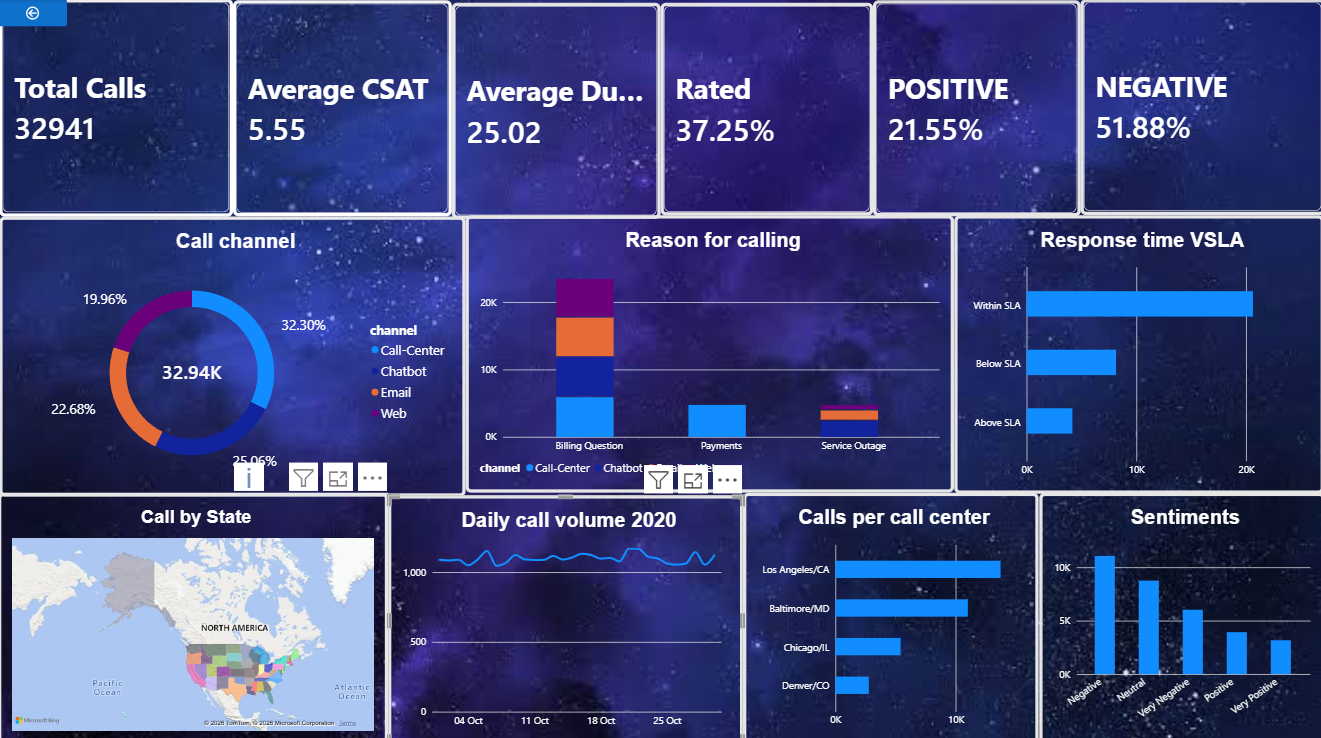

This screenshot's page, from the dashboard's own definition file:
{"tool":"powerbi","page":{"name":"Dashboard","canvas":[1920,1080],"ordinal":0},"visuals":[{"type":"donutChart","title":"Call channel","fields":{"Category":["csat.channel"],"Y":["CountNonNull(csat.id)"]},"box":[2.1,314.9,675.1,405.5],"z":0},{"type":"filledMap","title":"Call by State","fields":{"Category":["csat.state"],"Series":["csat.id"]},"box":[0,714.8,564.6,365.6],"z":1000},{"type":"columnChart","title":"Reason for calling","fields":{"Category":["csat.reason"],"Series":["csat.channel"],"Y":["CountNonNull(csat.id)"]},"box":[676.8,313.1,707.6,401.7],"z":2000},{"type":"clusteredBarChart","title":"Response time VSLA","fields":{"Category":["csat.response_time"],"Y":["CountNonNull(csat.id)"]},"box":[1385.3,312.9,535.2,403.4],"z":3000},{"type":"clusteredColumnChart","title":"Sentiments","fields":{"Category":["csat.sentiment"],"Y":["CountNonNull(csat.id)"]},"box":[1506.7,714.2,413.7,366.4],"z":4000},{"type":"clusteredBarChart","title":"Calls per call center","fields":{"Category":["csat.call_center"],"Y":["CountNonNull(csat.id)"]},"box":[1078.6,714.2,428.1,364.3],"z":5000},{"type":"cardVisual","fields":{"Data":["csat.Total Calls"]},"box":[1.8,0,338.4,314.9],"z":6000},{"type":"actionButton","box":[0,0,100,40],"z":7000},{"type":"cardVisual","fields":{"Data":["csat.Average CSAT"]},"box":[340.2,1.8,316.7,313.1],"z":8000},{"type":"cardVisual","fields":{"Data":["csat.Average Duration"]},"box":[656.9,5.4,302.2,313.1],"z":9000},{"type":"cardVisual","fields":{"Data":["csat.POSITIVE"]},"box":[1266.8,1.8,300.4,313.1],"z":10000},{"type":"cardVisual","fields":{"Data":["csat.NEGATIVE"]},"box":[1566.4,0,354,312.9],"z":11000},{"type":"lineChart","title":"Daily call volume 2020","fields":{"Category":["csat.Call Day"],"Y":["CountNonNull(csat.id)"]},"box":[564,718.4,514.6,362.3],"z":12000},{"type":"cardVisual","fields":{"Data":["csat.Rated"]},"box":[959,5,308,308],"z":12001}]}

Visuals, with their boxes in screenshot pixels (x1, y1, x2, y2), scaled from the page's 1920x1080 canvas onto the 1321x738 screenshot:
"Call channel" donutChart: (1,215,466,492)
"Call by State" filledMap: (0,488,388,737)
"Reason for calling" columnChart: (466,214,952,488)
"Response time VSLA" clusteredBarChart: (953,214,1320,489)
"Sentiments" clusteredColumnChart: (1037,488,1320,737)
"Calls per call center" clusteredBarChart: (742,488,1037,737)
cardVisual - csat.Total Calls: (1,0,234,215)
actionButton: (0,0,69,27)
cardVisual - csat.Average CSAT: (234,1,452,215)
cardVisual - csat.Average Duration: (452,4,660,218)
cardVisual - csat.POSITIVE: (872,1,1078,215)
cardVisual - csat.NEGATIVE: (1078,0,1320,214)
"Daily call volume 2020" lineChart: (388,491,742,737)
cardVisual - csat.Rated: (660,3,872,214)
